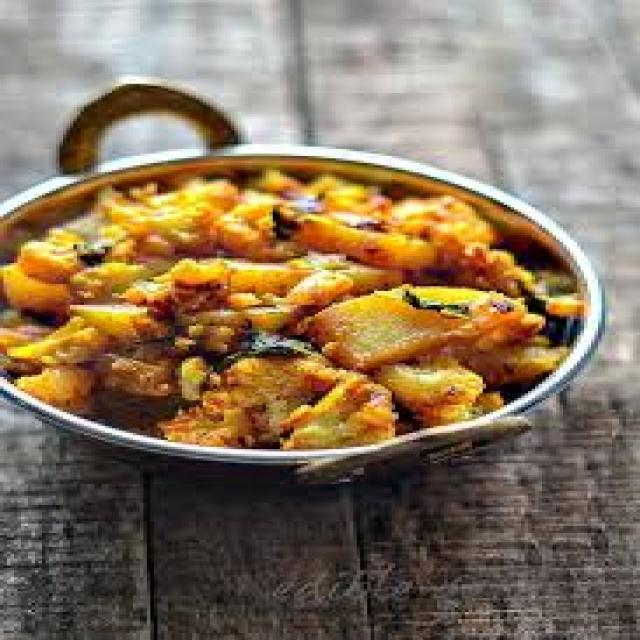Aloo Gobi: (47, 185, 502, 436)
